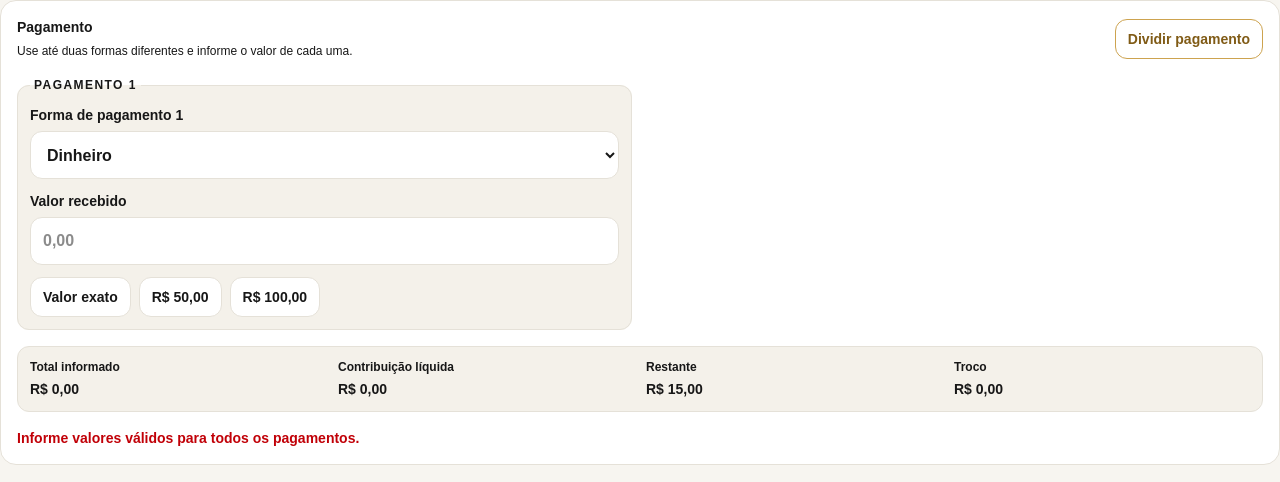
Test: PdvPaymentSection › adds and removes a distinct second payment
The width and height of the screenshot is (1280, 482).
Click the button "Dividir pagamento" at coordinates (1189, 39), box [1115, 19, 1263, 59]
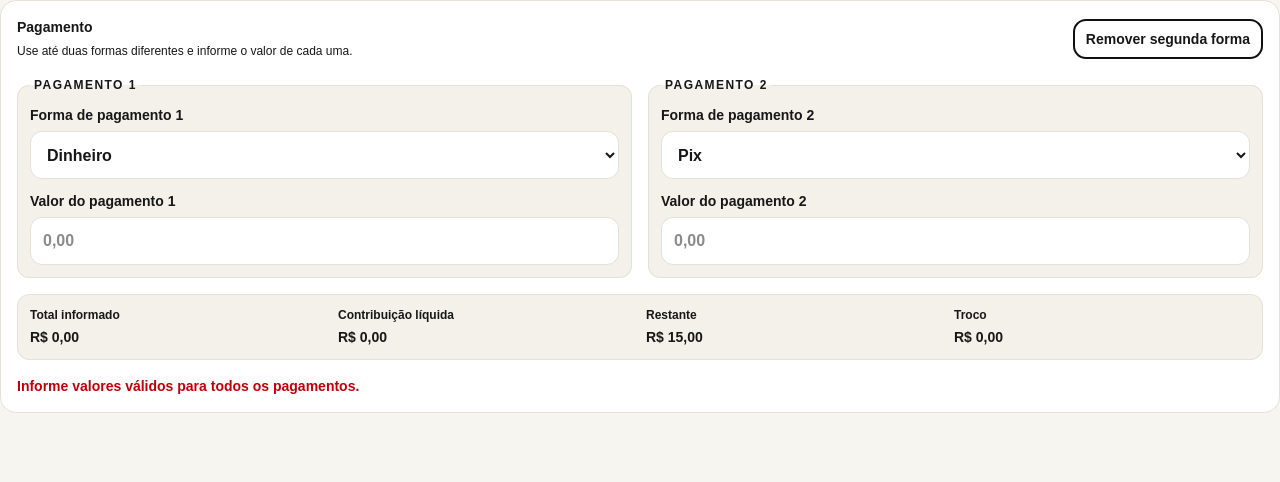
Expected: the dropdown labelled "Forma de pagamento 1" shows "Dinheiro", [30, 131, 619, 179]
Expected: the number of dropdowns labelled "Forma de pagamento 1" is 2, [30, 131, 619, 179]; [661, 131, 1250, 179]
Expected: the dropdown labelled "Forma de pagamento 2" shows "Pix", [661, 131, 1250, 179]
Click the button "Remover segunda forma" at coordinates (1168, 39), box [1073, 19, 1263, 59]
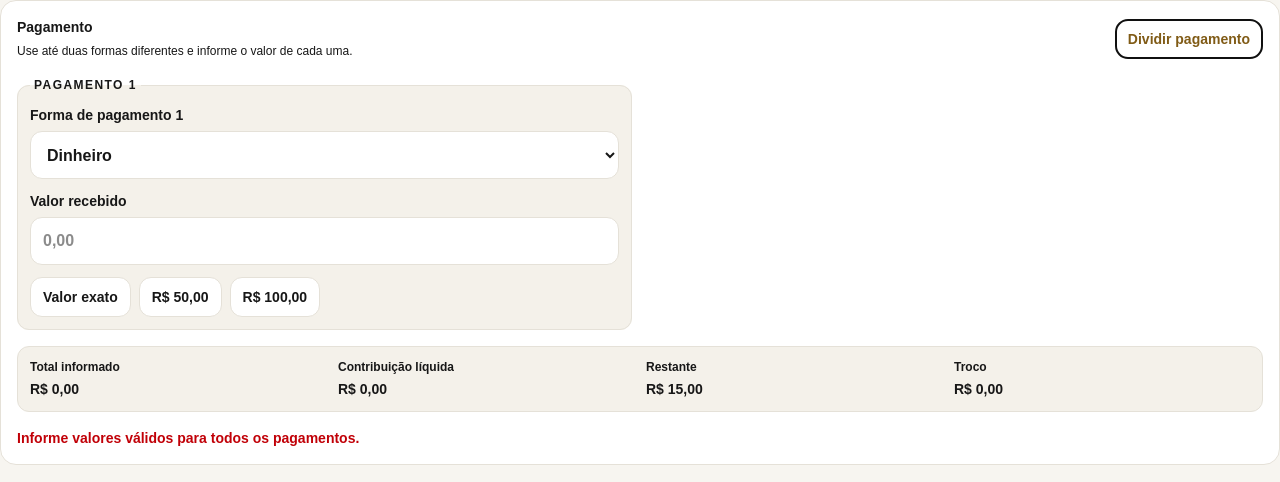
Expected: the number of dropdowns labelled "Forma de pagamento 1" is 1, [30, 131, 619, 179]
